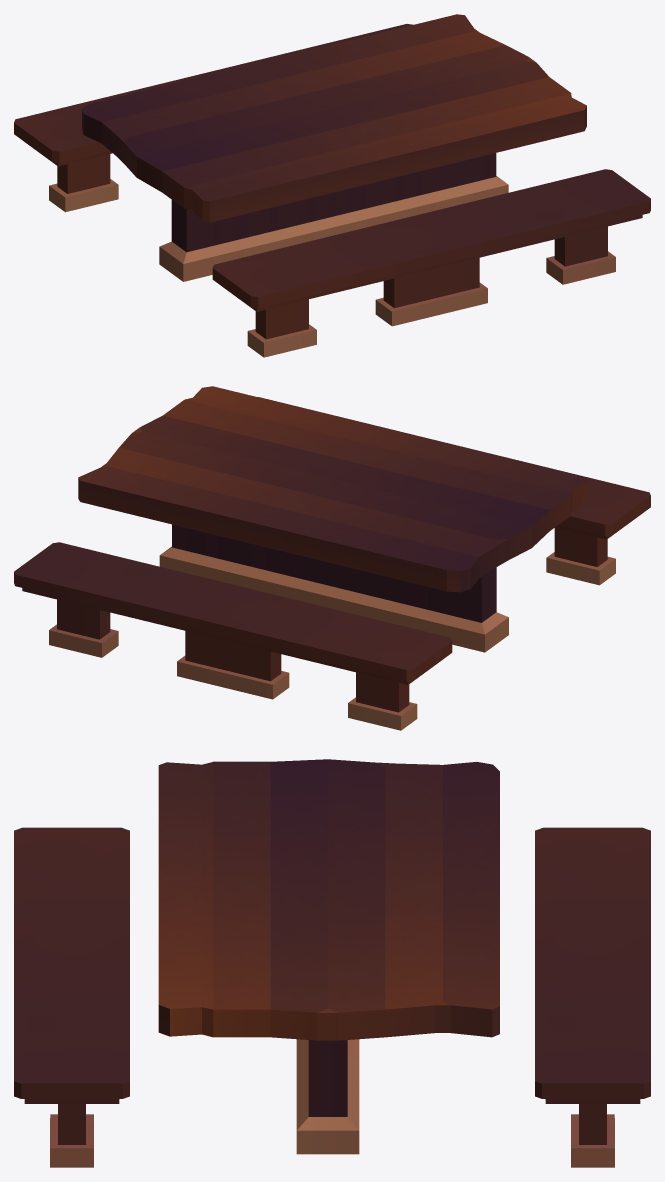
Rendered from Garden_Table_Picnic.fbx.
3 views of the same model, one above another, from view 1: azimuth 30°, elevation 25°; view 2: azimuth 150°, elevation 25°; view 3: azimuth 270°, elevation 25° (orthographic). The views are drawn at different scales.
Visible parts, largest first — view 1: Cube.161; view 2: Cube.161; view 3: Cube.161.
Boxes of the visible parts, x1=… form: Cube.161: x1=14, y1=14, x2=650, y2=357; Cube.161: x1=14, y1=386, x2=650, y2=730; Cube.161: x1=14, y1=759, x2=650, y2=1167.
Size of the model in its own units: 200 by 61.68 by 210.
